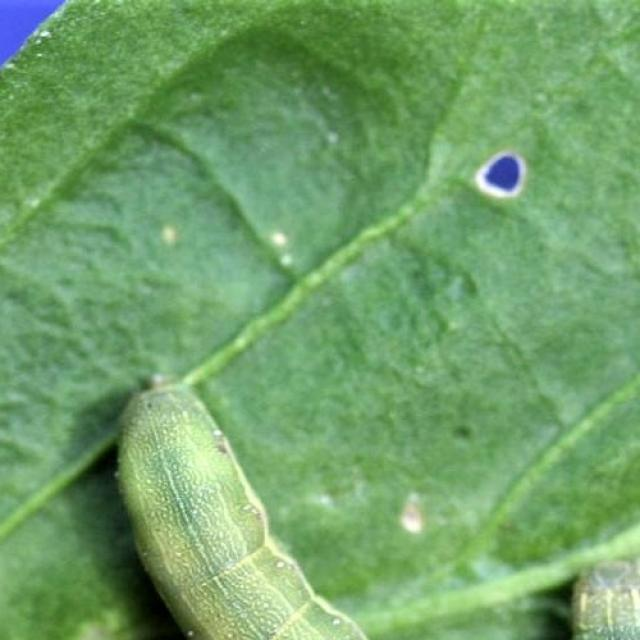armyworm: (119, 382, 366, 640)
